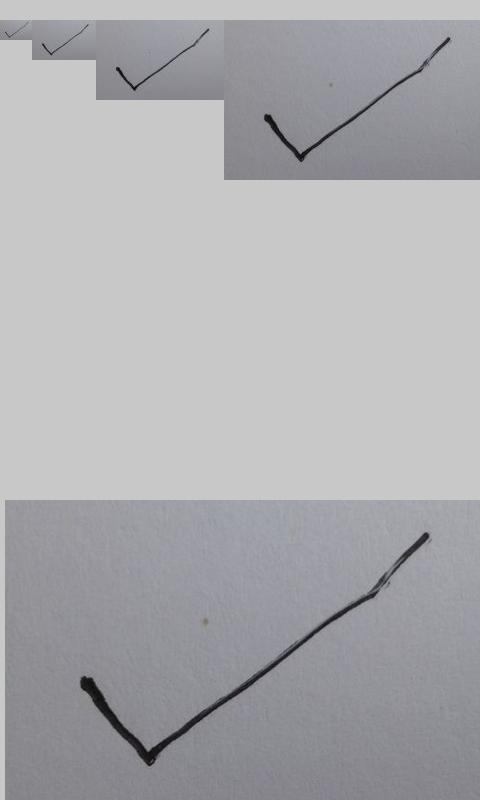check_box: (79, 534, 428, 766), (265, 38, 450, 162), (116, 28, 209, 91), (41, 24, 88, 55), (5, 22, 28, 38)
